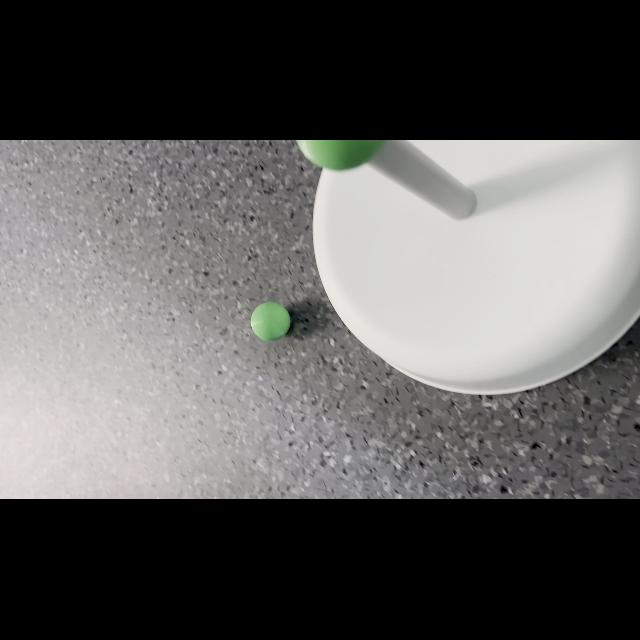objects: (247, 298, 293, 346)
